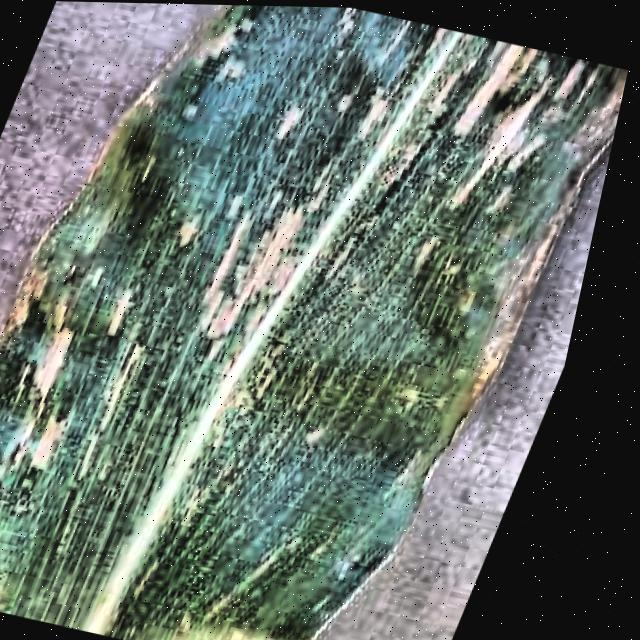gray_spot: (0, 1, 640, 640)
